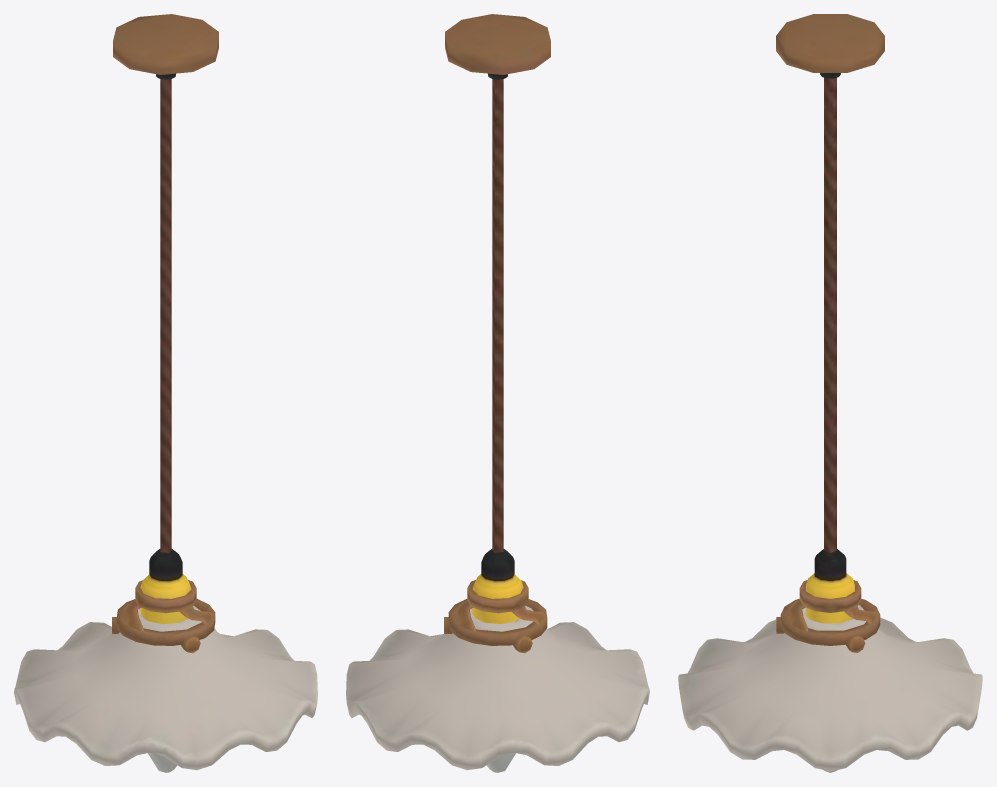
3 renders of one model, left to right at view 1: azimuth 30°, elevation 25°; view 2: azimuth 150°, elevation 25°; view 3: azimuth 270°, elevation 25°, orthographic.
Size of the model in its own units: 5.93 by 15.84 by 5.93.
1 material, 1 textured.
